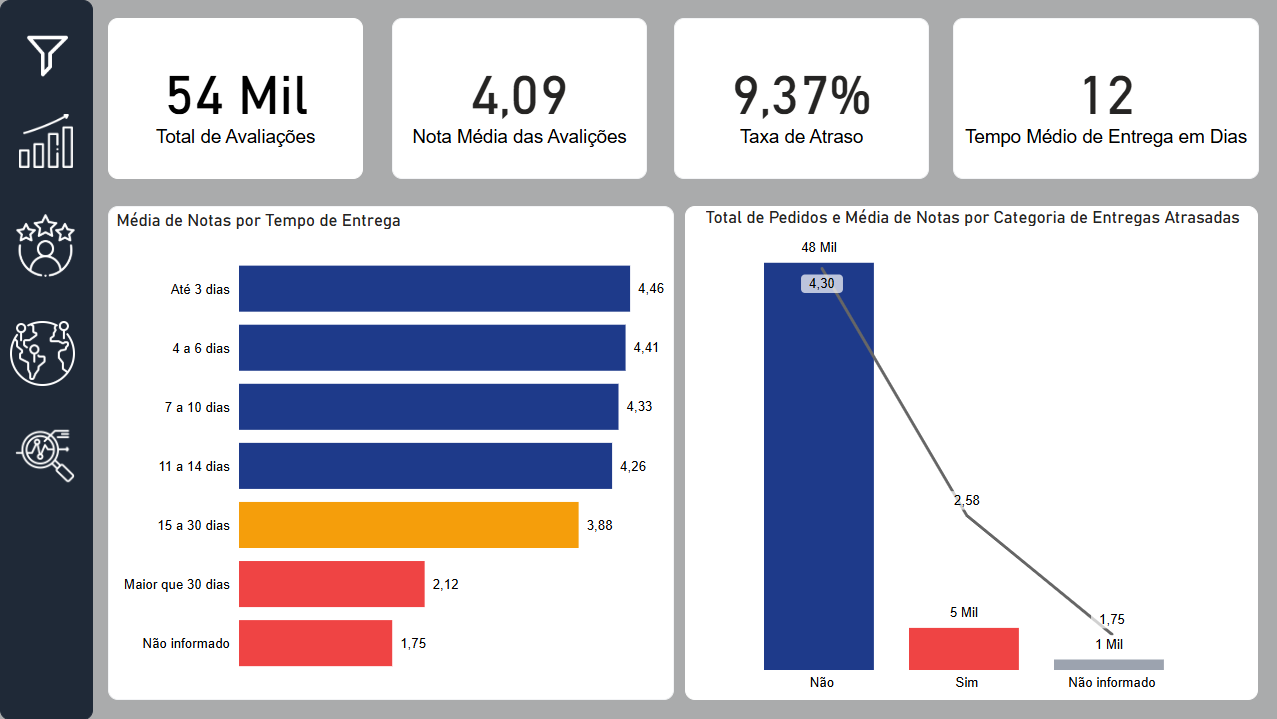

Layout of this report page (visuals, bound fields, positions):
{"tool":"powerbi","page":{"name":"Entrega vs Satisfação","canvas":[1280,720],"ordinal":1},"visuals":[{"type":"lineClusteredColumnComboChart","title":"Total de Pedidos e Média de Notas por Categoria de Entregas Atrasadas","fields":{"Category":["fato_pedidos.entrega_atrasada"],"Y":["Medidas.Numero_de_Pedidos"],"Y2":["Medidas.Nota_Media"]},"box":[685.4,205.6,572.8,494.5],"z":0},{"type":"card","fields":{"Values":["Medidas.Nota_Media"]},"box":[391.7,18.1,254.8,160.5],"z":1000},{"type":"clusteredBarChart","title":"Média de Notas por Tempo de Entrega","fields":{"Category":["fato_pedidos.faixa_dias_ate_entrega"],"Y":["Medidas.Nota_Media"]},"box":[107.7,205.6,566.3,494.5],"z":2000},{"type":"shape","box":[0,0,93,719.7],"z":3000},{"type":"image","box":[19.7,18.2,53,74.2],"z":4000},{"type":"image","box":[0,109,92.4,63.6],"z":5000},{"type":"image","box":[0,205.9,92.4,78.7],"z":6000},{"type":"image","box":[0,420.9,90.9,69.7],"z":7000},{"type":"image","box":[0,316.5,86.3,74.2],"z":8000},{"type":"card","fields":{"Values":["Medidas.Qtd_Avaliacoes"]},"box":[107.9,18.1,254.8,160.5],"z":9000},{"type":"card","fields":{"Values":["Medidas.Tempo_Medio_Entrega"]},"box":[953,18.1,305.6,160.5],"z":10000},{"type":"card","fields":{"Values":["Medidas.Taxa_de_Atraso"]},"box":[673.8,18.1,254.8,160.5],"z":11000}]}

Visuals, with their boxes on the page's 1280x720 design canvas (x1, y1, x2, y2). These are canvas units, not pixel positions in the 1277x719 screenshot, which may show the page scaled, cropped or inside an application window:
"Total de Pedidos e Média de Notas por Categoria de Entregas Atrasadas" lineClusteredColumnComboChart: box(685, 206, 1258, 700)
card - Medidas.Nota_Media: box(392, 18, 646, 179)
"Média de Notas por Tempo de Entrega" clusteredBarChart: box(108, 206, 674, 700)
shape: box(0, 0, 93, 720)
image: box(20, 18, 73, 92)
image: box(0, 109, 92, 173)
image: box(0, 206, 92, 285)
image: box(0, 421, 91, 491)
image: box(0, 316, 86, 391)
card - Medidas.Qtd_Avaliacoes: box(108, 18, 363, 179)
card - Medidas.Tempo_Medio_Entrega: box(953, 18, 1259, 179)
card - Medidas.Taxa_de_Atraso: box(674, 18, 929, 179)
